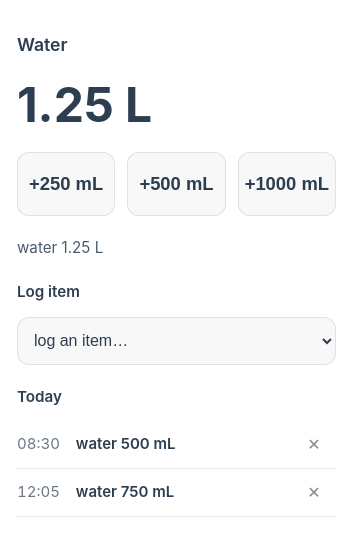
it: HomeView › keeps the previous day view and shows an error when the refresh fails
What coordinates should you click on to do the following:
click the button "+250 mL"
I would click on:
 (66, 184)
Its box is [17, 152, 115, 216].
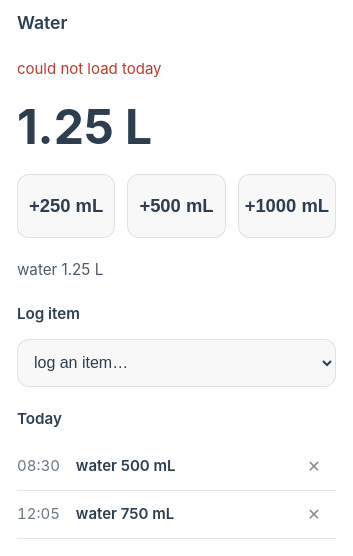
Expected: the text with test id "water-total" reads "1.25 L", [17, 97, 152, 156]
Result: the message with class "error" reads "could not load today" at [17, 59, 162, 78]
